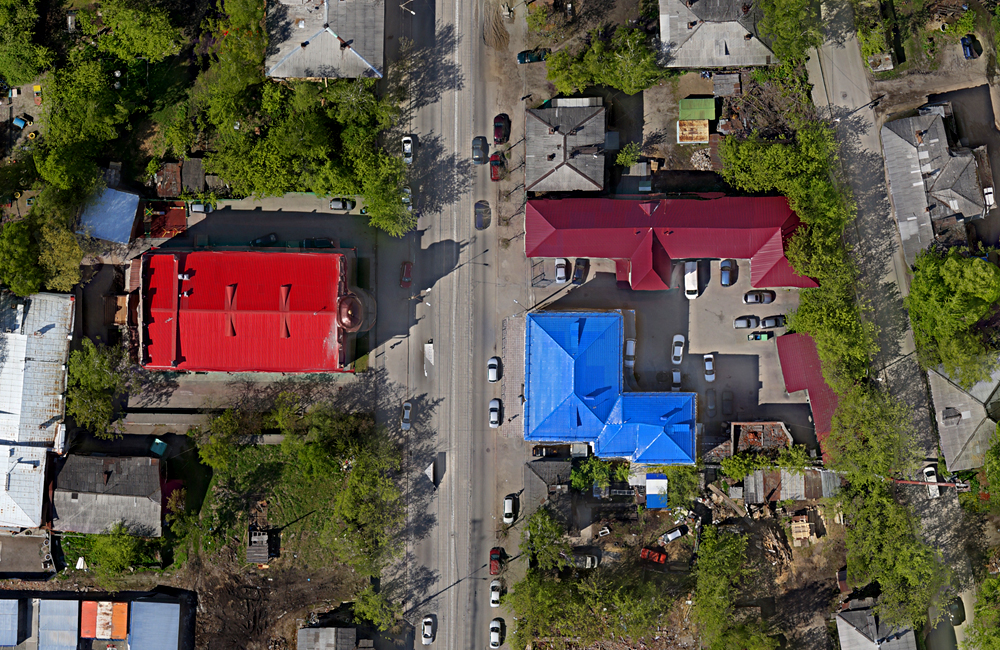build: (523, 197, 835, 291), (523, 307, 704, 469), (139, 247, 361, 373), (879, 113, 1000, 273), (1, 281, 76, 448), (42, 452, 173, 540), (263, 1, 398, 82), (923, 347, 1000, 475), (652, 1, 782, 69), (521, 101, 611, 191), (829, 594, 920, 650), (67, 184, 147, 246), (1, 444, 51, 539), (68, 596, 138, 646), (674, 90, 715, 147), (289, 621, 360, 650)
